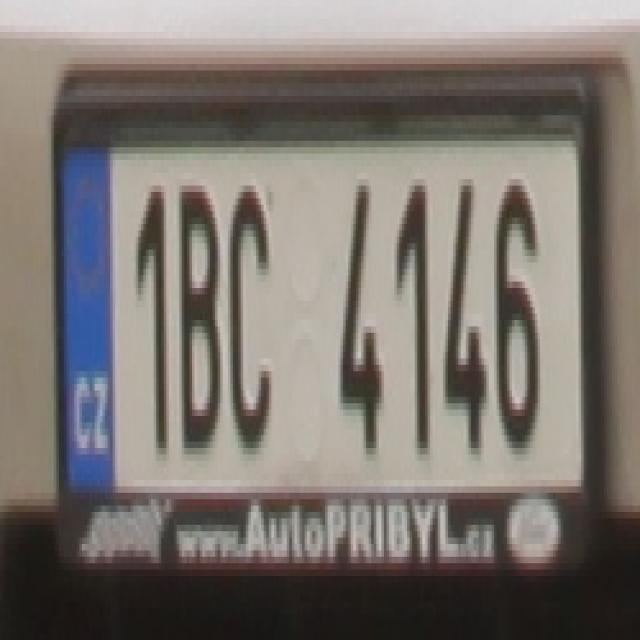1: (394, 179, 433, 461), (133, 179, 172, 461)
4: (332, 173, 387, 467), (440, 173, 489, 461)
6: (494, 166, 545, 468)
B: (177, 173, 225, 467)
C: (228, 179, 276, 461)
